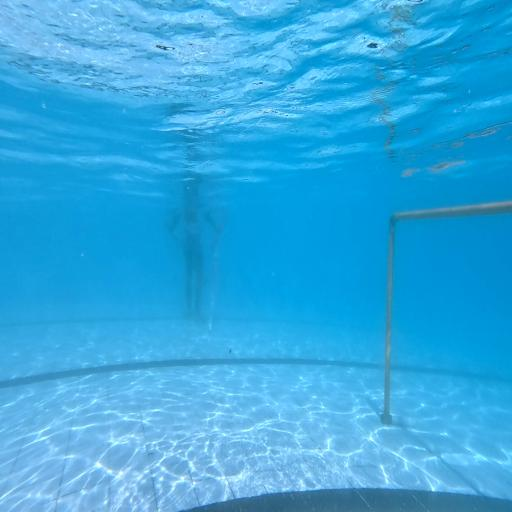gate: (381, 202, 512, 424)
